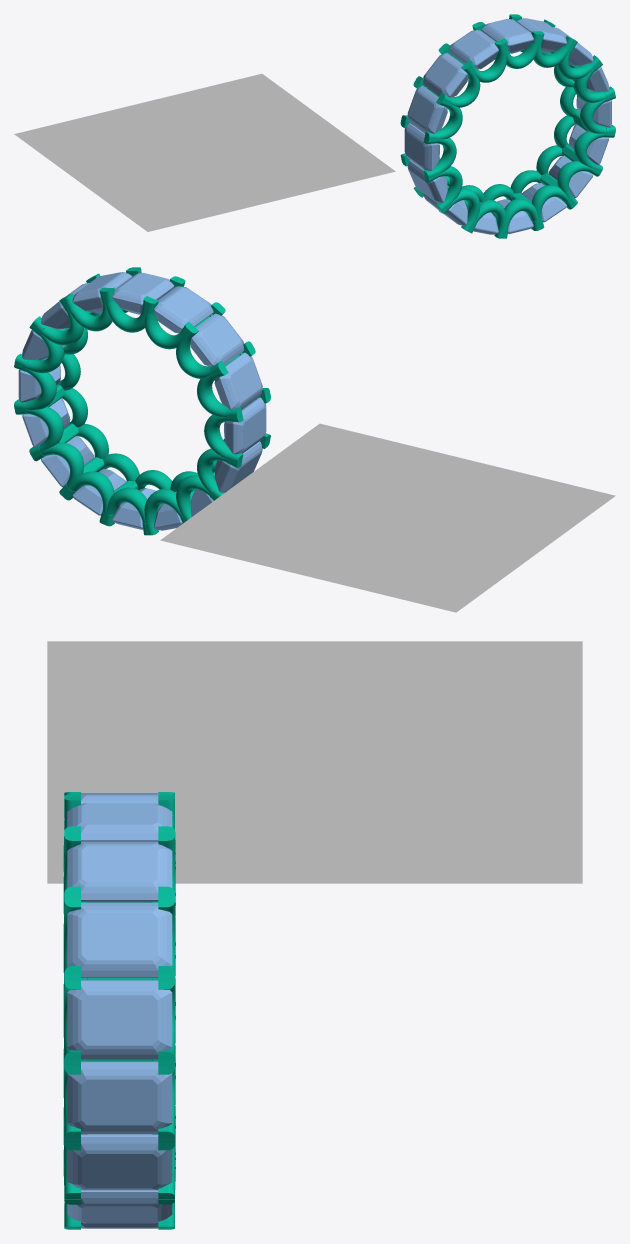
3 renders of one model, top to bottom at view 1: azimuth 30°, elevation 25°; view 2: azimuth 150°, elevation 25°; view 3: azimuth 270°, elevation 25°, orthographic. The views are drawn at different scales.
Parts seen in each view (by area): view 1: 6-4.50 EMERALD(front).3dm, Diamond_Emerald (×16); view 2: 6-4.50 EMERALD(front).3dm, Diamond_Emerald (×15); view 3: 6-4.50 EMERALD(front).3dm, Diamond_Emerald (×8).
Boxes of the visible parts, <box> form: 6-4.50 EMERALD(front).3dm: <box>14,14,615,238</box>; Diamond_Emerald (×16): <box>404,18,611,234</box>; 6-4.50 EMERALD(front).3dm: <box>14,267,615,612</box>; Diamond_Emerald (×15): <box>18,272,266,530</box>; 6-4.50 EMERALD(front).3dm: <box>47,641,582,1229</box>; Diamond_Emerald (×8): <box>67,793,172,1223</box>.
Bounding box in the file's own units: 6.97 × 2.78 × 3.41.
